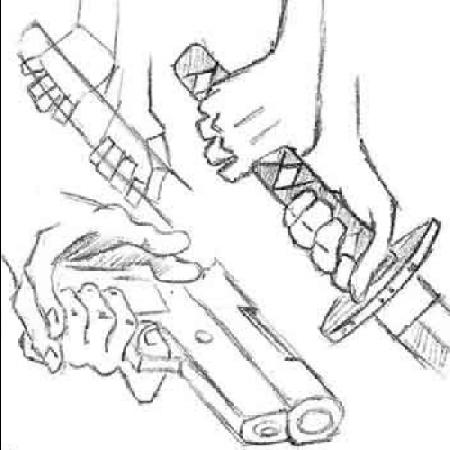Pistol: (44, 236, 348, 444)
